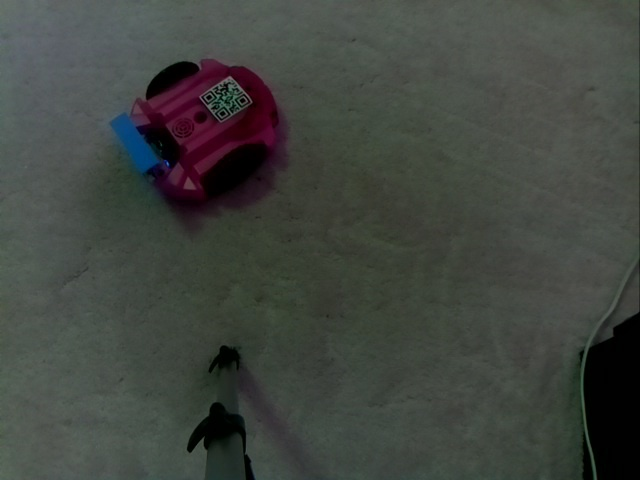board: (109, 111, 175, 181)
chassis: (120, 54, 281, 203)
